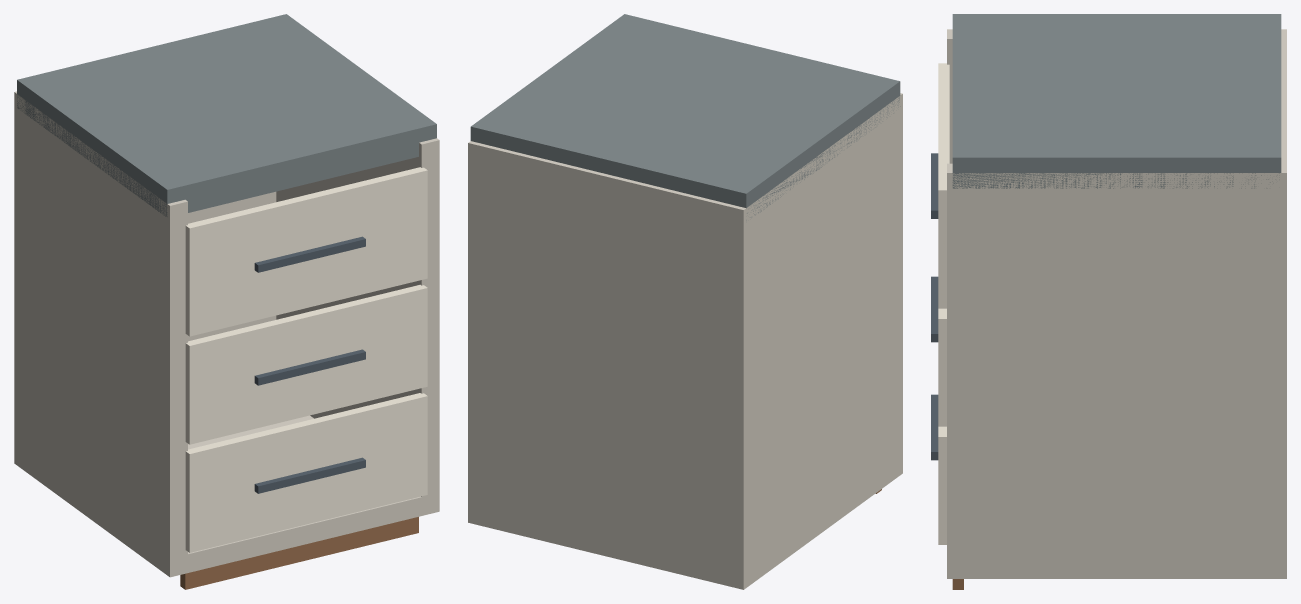
File: Kitchen_Drawers_60.fbx
3 views of the same model, side by side, from view 1: azimuth 30°, elevation 25°; view 2: azimuth 150°, elevation 25°; view 3: azimuth 270°, elevation 25° (orthographic). The views are drawn at different scales.
Parts seen in each view (by area): view 1: Kitchen_Drawers_60; view 2: Kitchen_Drawers_60; view 3: Kitchen_Drawers_60.
Part boxes in pixels (x1=…): Kitchen_Drawers_60: x1=14, y1=14, x2=439, y2=589; Kitchen_Drawers_60: x1=468, y1=14, x2=902, y2=589; Kitchen_Drawers_60: x1=931, y1=14, x2=1286, y2=589.
Bounding box in the file's own units: 0.6 × 0.86 × 0.628.
